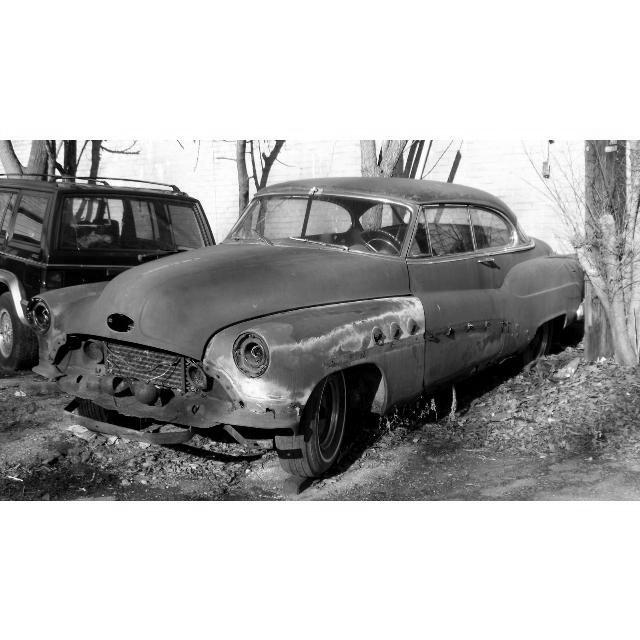fender-dent: (302, 290, 431, 370)
front-bumper-dent: (48, 345, 230, 443)
